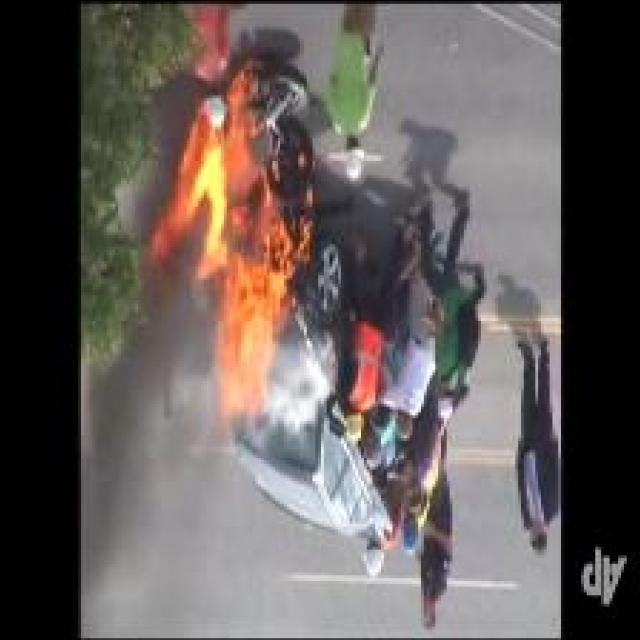Fire: (148, 66, 312, 426)
